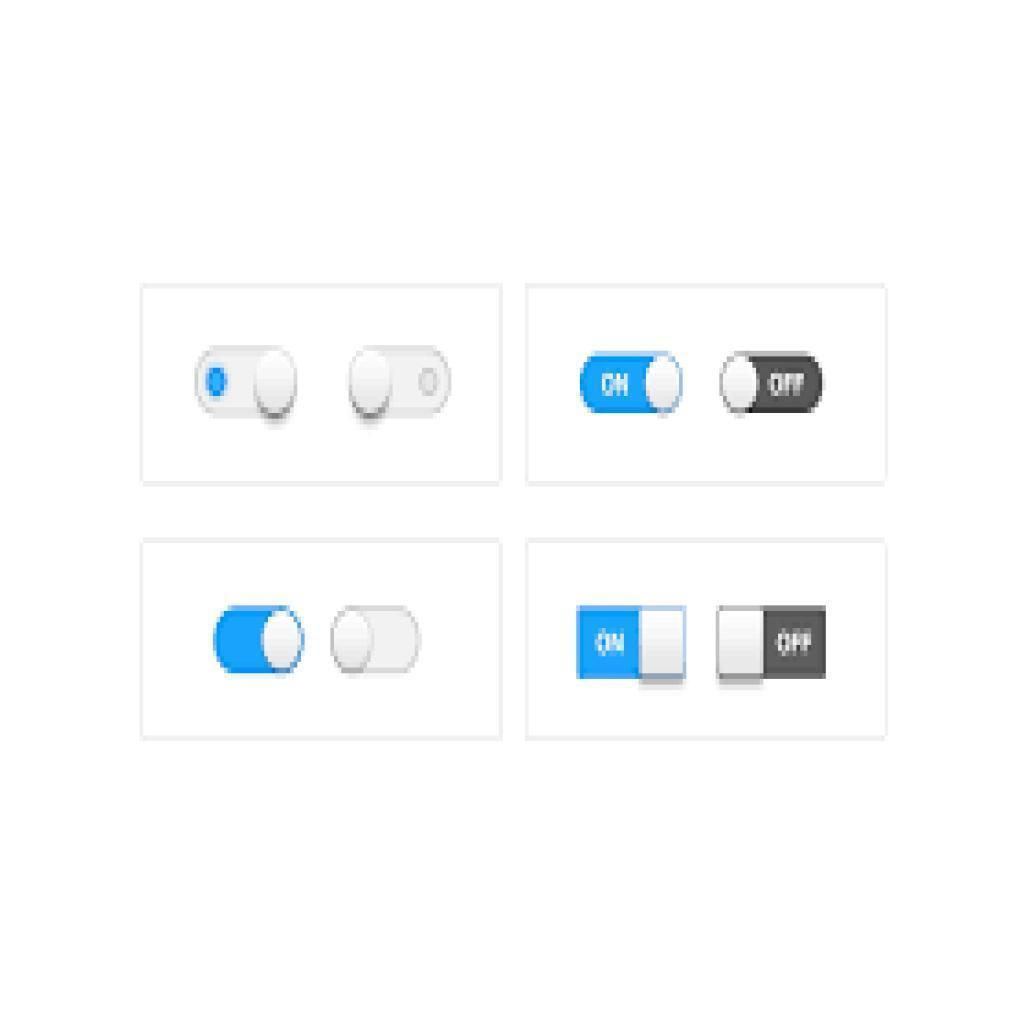switch: (573, 603, 692, 683), (715, 606, 827, 683), (196, 345, 298, 422), (348, 347, 453, 420), (579, 353, 684, 417), (722, 352, 826, 415), (212, 605, 305, 675), (329, 605, 423, 672)
